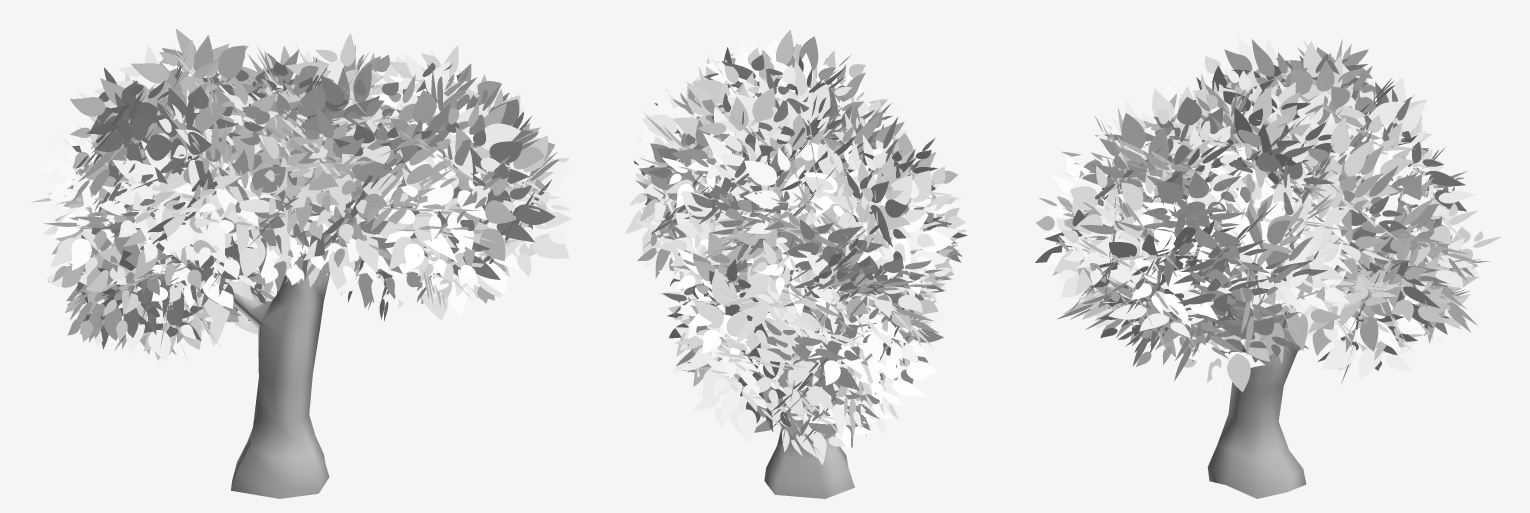
Rendered from textura final arbol.fbx.
3 renders of one model, left to right at view 1: azimuth 30°, elevation 25°; view 2: azimuth 150°, elevation 25°; view 3: azimuth 270°, elevation 25°, orthographic. The views are drawn at different scales.
Parts seen in each view (by area): view 1: 1; view 2: 1; view 3: 1.
Part boxes in pixels (<box>): 1: <box>31,29,574,498</box>; 1: <box>624,30,970,498</box>; 1: <box>1035,38,1501,498</box>.
Size of the model in its own units: 551 by 540 by 570.
